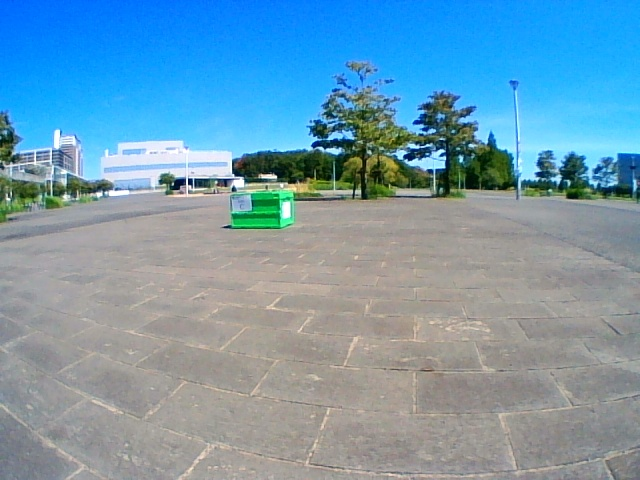green_box: (230, 191, 293, 229)
tag: (232, 195, 250, 211)
